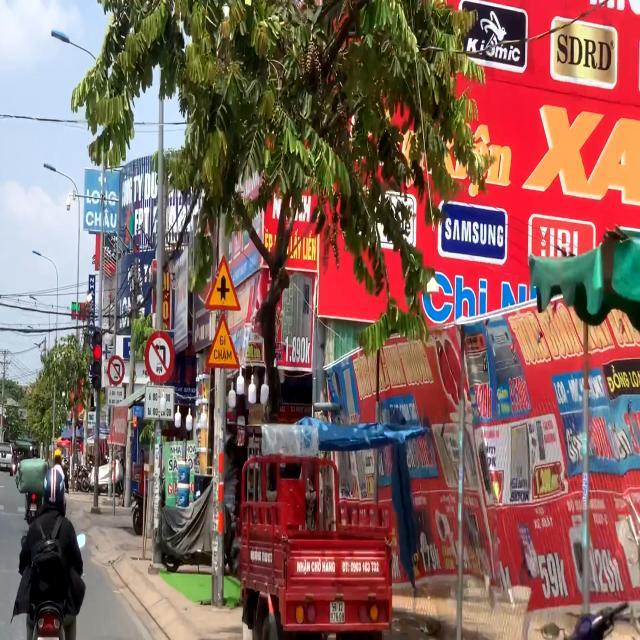W-207a: (206, 253, 242, 311)
W-245a: (208, 314, 240, 366)
